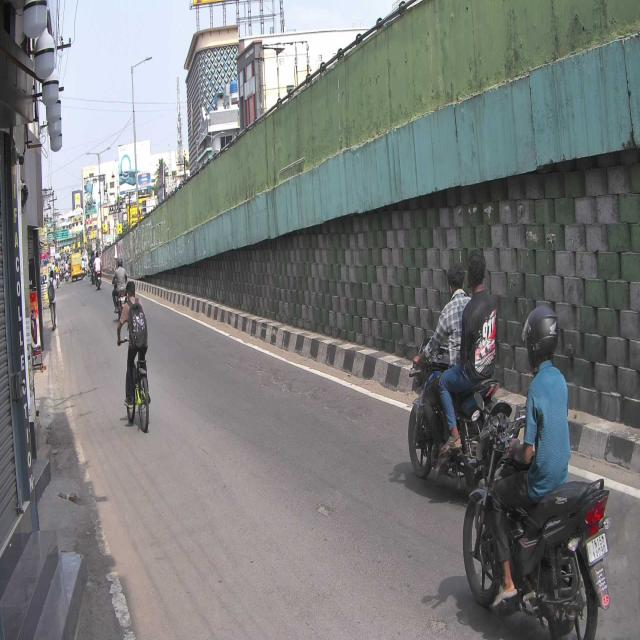double_rider: (405, 247, 501, 487)
single_rider: (508, 301, 612, 640)
